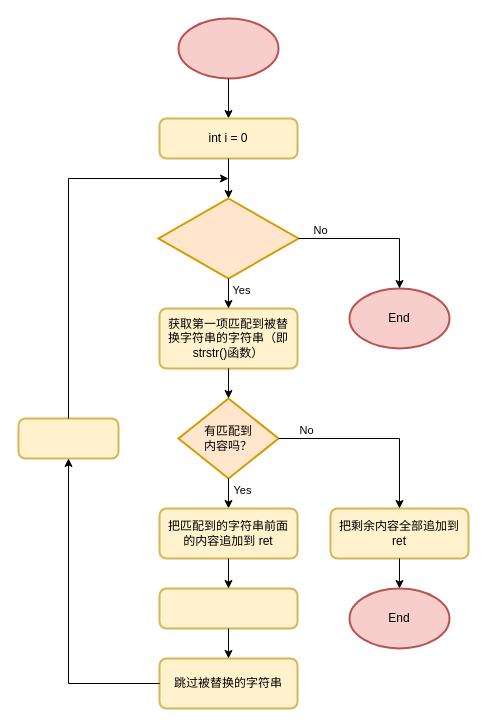
The diagram is 486 pixels wide and 726 high, and some of its shapes have lost their labels. The shapes that lost their labels are listed below. From the top down, each one's centre as x and y in pixels, then its label:
At (228,48): "Start".
At (228,238): "i < strlen(raw)".
At (68,438): "i++".
At (228,608): "追加新字符串到 ret".
